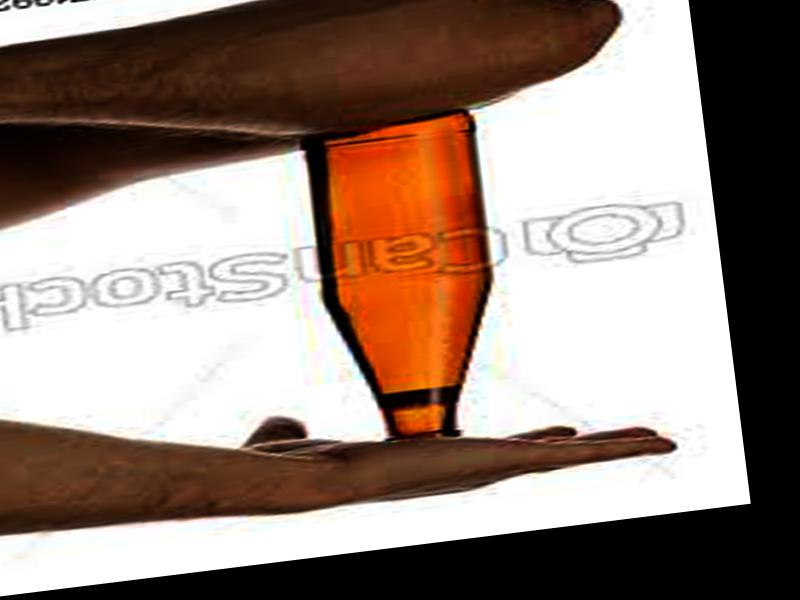Beer: (294, 113, 516, 455)
